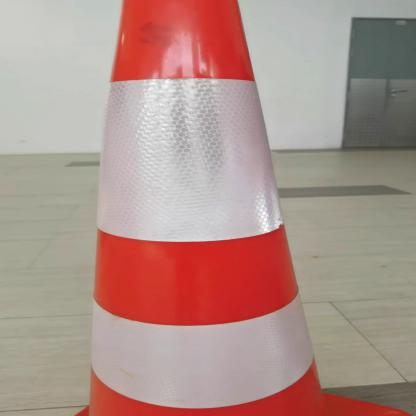cone: (56, 0, 415, 416)
